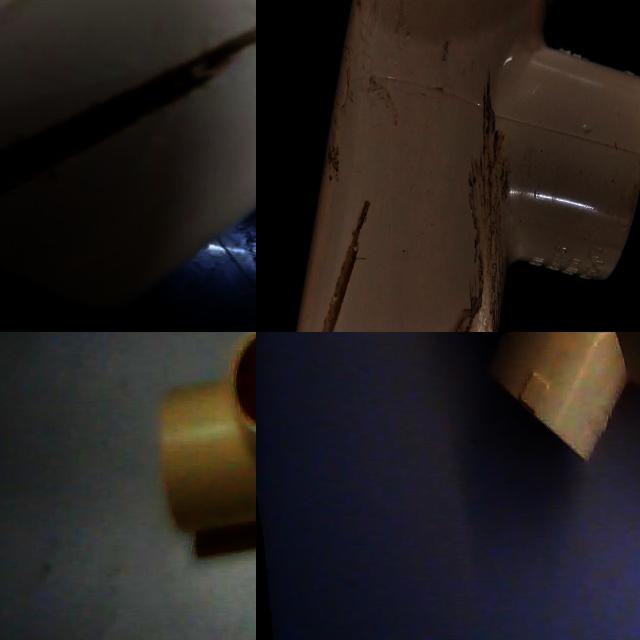Defective: (0, 114, 114, 248), (256, 286, 492, 332), (74, 67, 202, 141), (180, 0, 256, 84)
T Joint: (256, 96, 512, 332), (162, 332, 256, 531)
